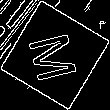M_E: (25, 26, 85, 84)
